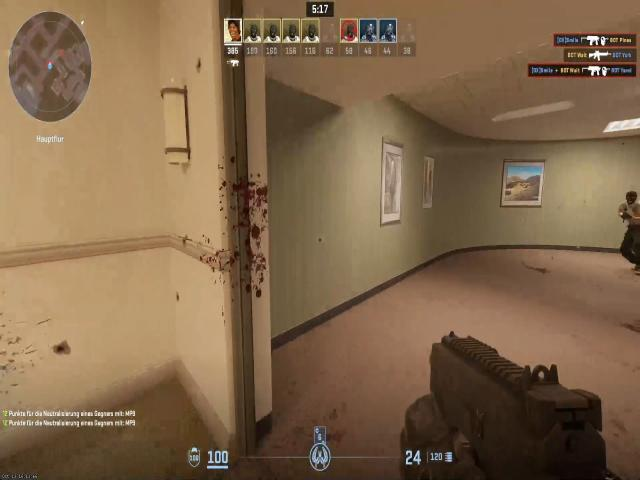T: (616, 181, 640, 270)
T-Head: (624, 186, 640, 210)
